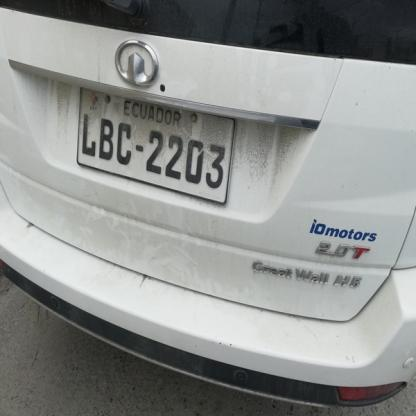Placa: (76, 82, 231, 206)
